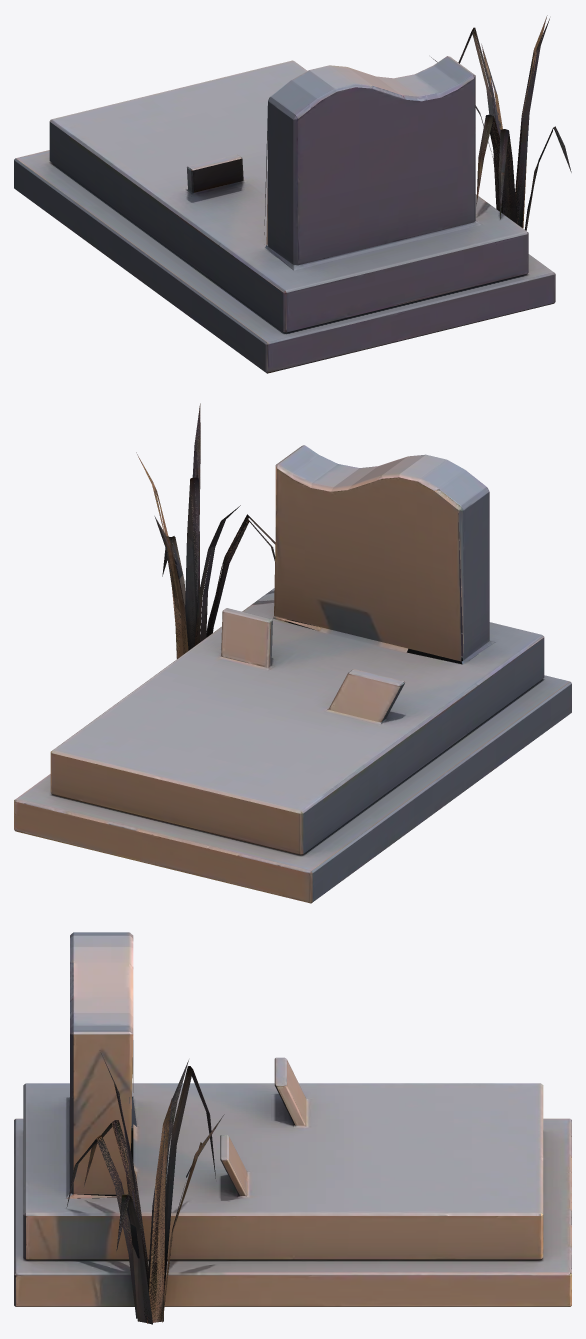
3 renders of one model, top to bottom at view 1: azimuth 30°, elevation 25°; view 2: azimuth 150°, elevation 25°; view 3: azimuth 270°, elevation 25°, orthographic. The views are drawn at different scales.
Visible parts, largest first — view 1: 01_LOD1; view 2: 01_LOD1; view 3: 01_LOD1.
Boxes of the visible parts, x1=… form: 01_LOD1: x1=14, y1=15, x2=571, y2=373; 01_LOD1: x1=14, y1=403, x2=571, y2=903; 01_LOD1: x1=14, y1=932, x2=571, y2=1324.
Bounding box in the file's own units: 1.73 × 1.18 × 2.15.
Materials: 1 (1 with a texture image).
